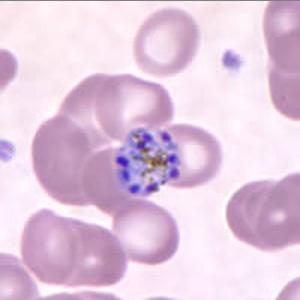Infected: (114, 123, 179, 200)
Uninfected: (30, 113, 95, 205), (98, 72, 173, 140), (58, 73, 122, 147), (82, 146, 149, 213), (112, 199, 177, 265), (22, 209, 79, 284), (162, 119, 222, 190), (64, 219, 127, 286), (134, 7, 197, 74), (227, 180, 287, 249), (252, 174, 299, 247)
